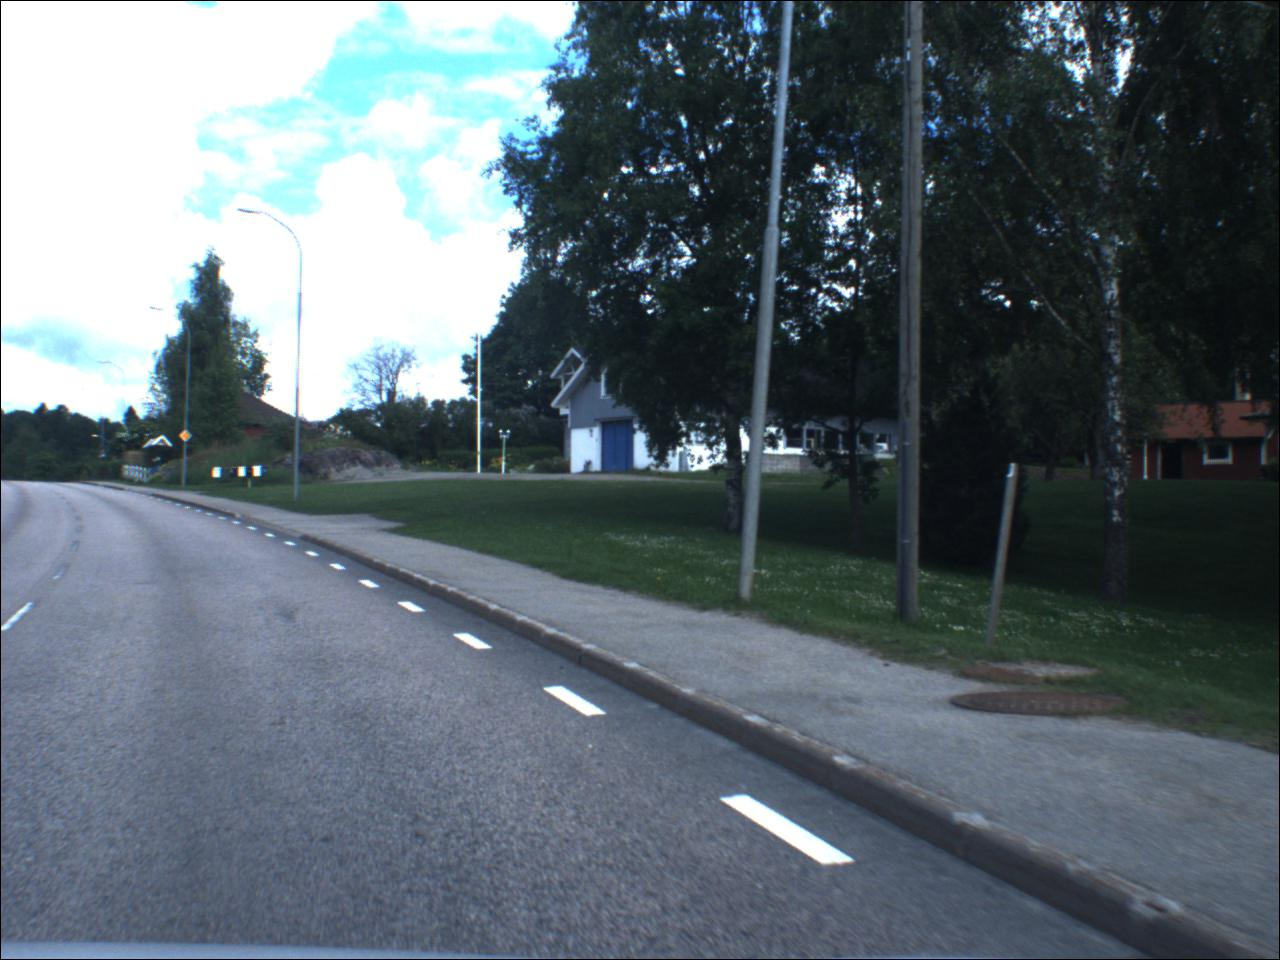PRIORITY_ROAD: (180, 430, 195, 444)
